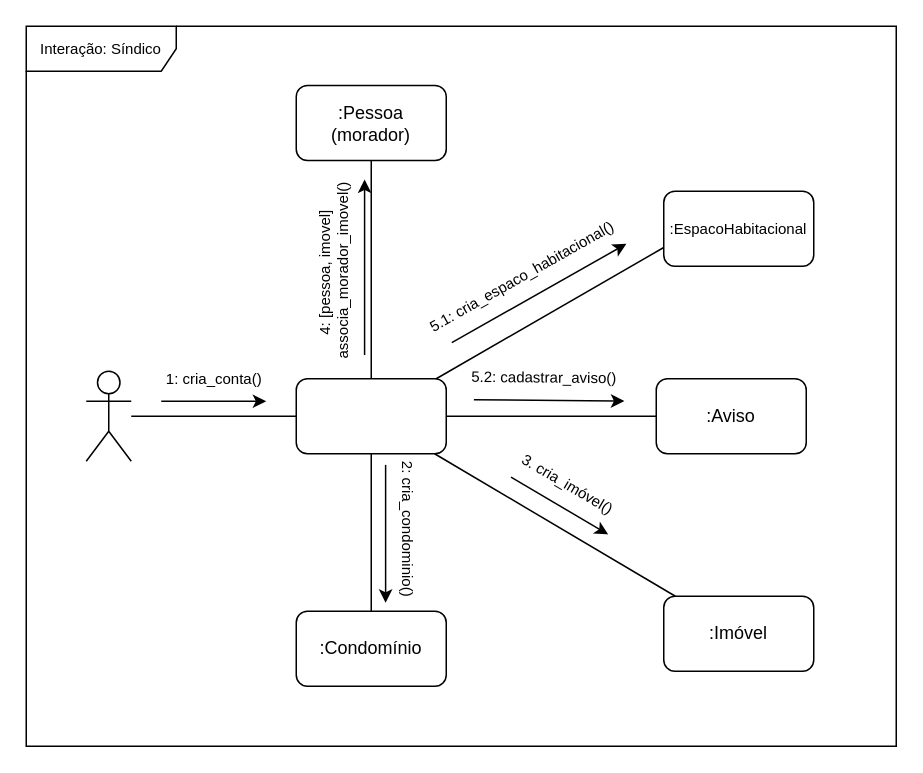
This 923x773 diagram has some shape labels left out. Each missing label, with the centre of its shape:
":Aplicação" belongs at point 370,415.
"Pessoa (Síndico)" belongs at point 108,415.
